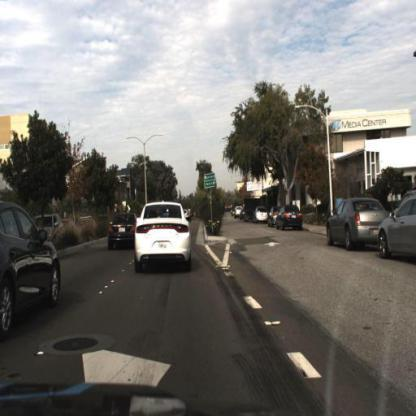car: (2, 197, 63, 340), (133, 200, 193, 276), (326, 196, 391, 249), (378, 190, 416, 261), (107, 211, 144, 253), (33, 213, 65, 245), (278, 205, 305, 234), (254, 205, 270, 226)
truck: (242, 197, 263, 224)
